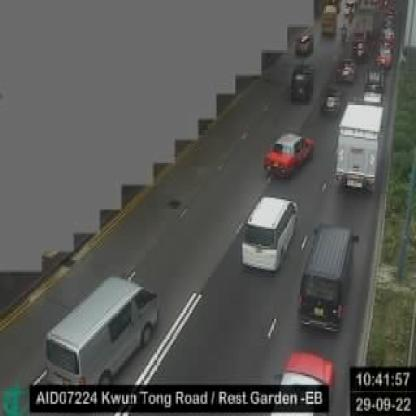Car: (36, 274, 160, 405), (299, 216, 360, 340), (238, 192, 303, 274), (258, 130, 314, 180), (285, 61, 316, 102), (317, 88, 347, 118), (321, 3, 339, 44), (333, 54, 357, 83), (372, 42, 395, 71), (292, 31, 314, 56)
Truck: (332, 101, 386, 194)
